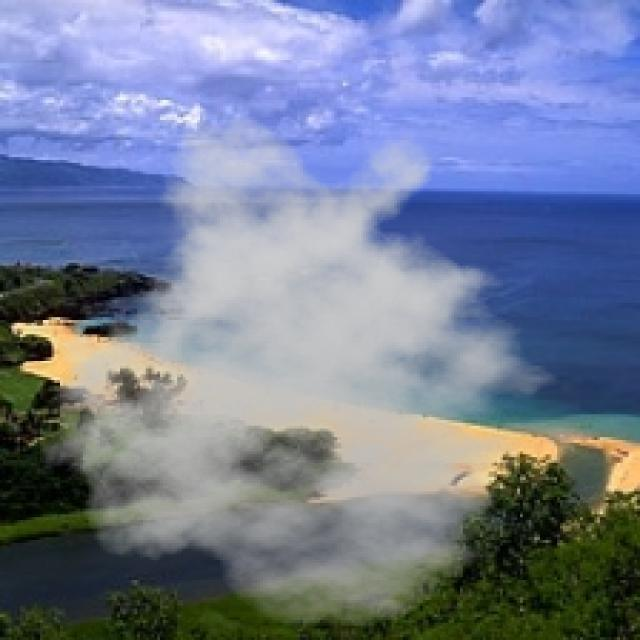Smoke: (26, 114, 583, 629)
